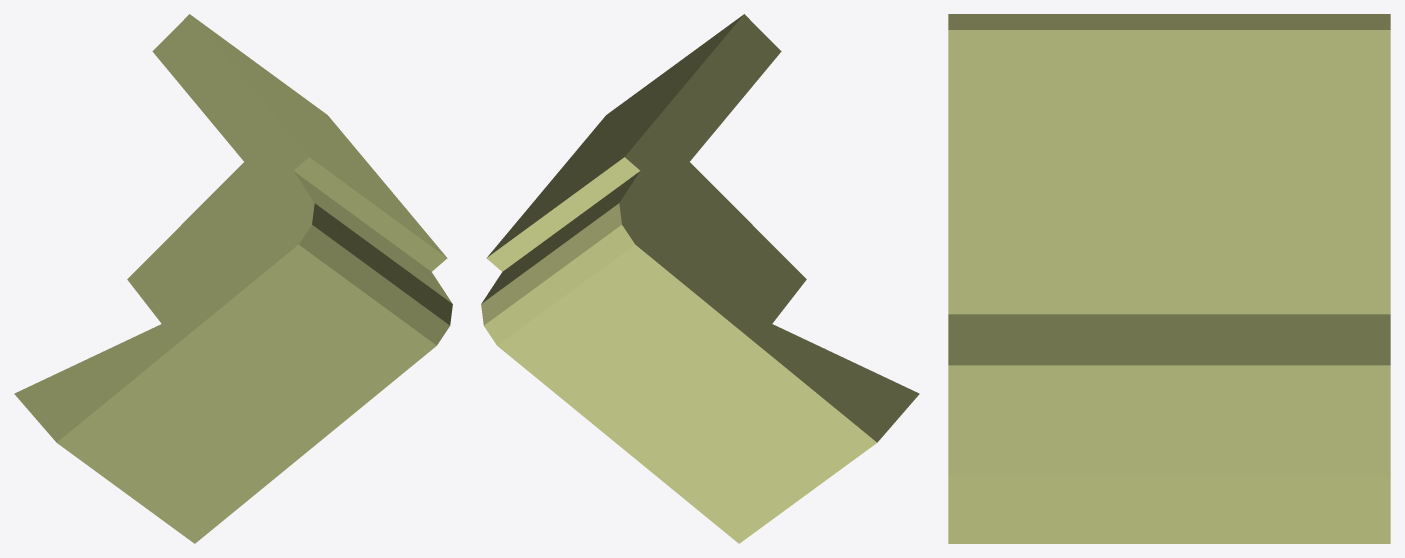
3 renders of one model, left to right at view 1: azimuth 30°, elevation 25°; view 2: azimuth 150°, elevation 25°; view 3: azimuth 270°, elevation 25°, orthographic. The views are drawn at different scales.
Visible parts, largest first — view 1: 0_0_1_1_2_3_1_0_2_2; view 2: 0_0_1_1_2_3_1_0_2_2; view 3: 0_0_1_1_2_3_1_0_2_2.
Boxes of the visible parts, x1=… form: 0_0_1_1_2_3_1_0_2_2: x1=14, y1=14, x2=452, y2=543; 0_0_1_1_2_3_1_0_2_2: x1=481, y1=14, x2=919, y2=543; 0_0_1_1_2_3_1_0_2_2: x1=948, y1=14, x2=1390, y2=543.
Size of the model in its own units: 11.3 by 14.24 by 9.
